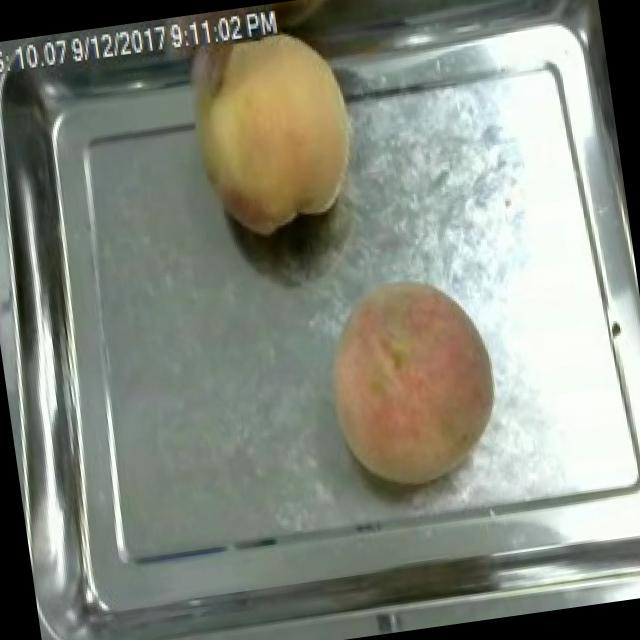Fruit: (308, 262, 516, 500), (172, 8, 376, 248)
